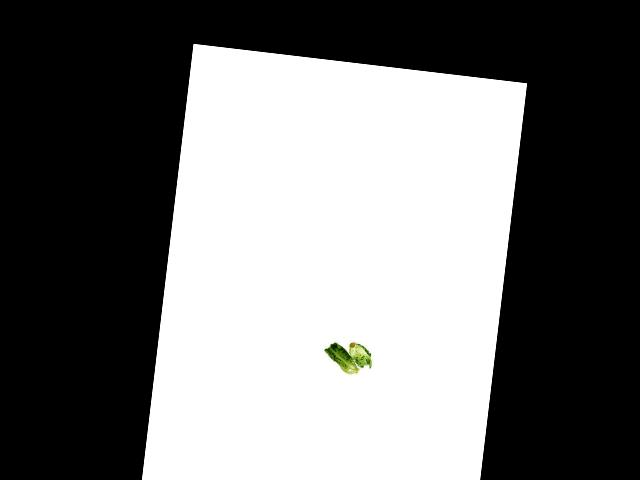lettuce: (345, 338, 375, 369)
